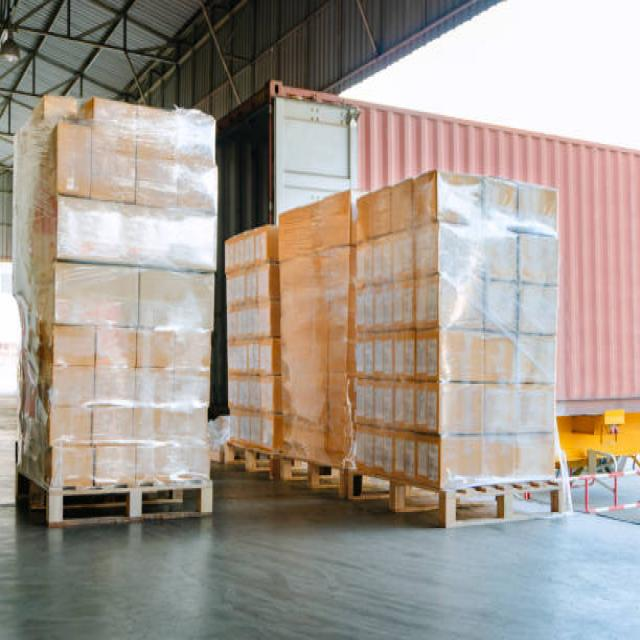Wooden-Pallets: (341, 461, 567, 531), (43, 474, 215, 529)
